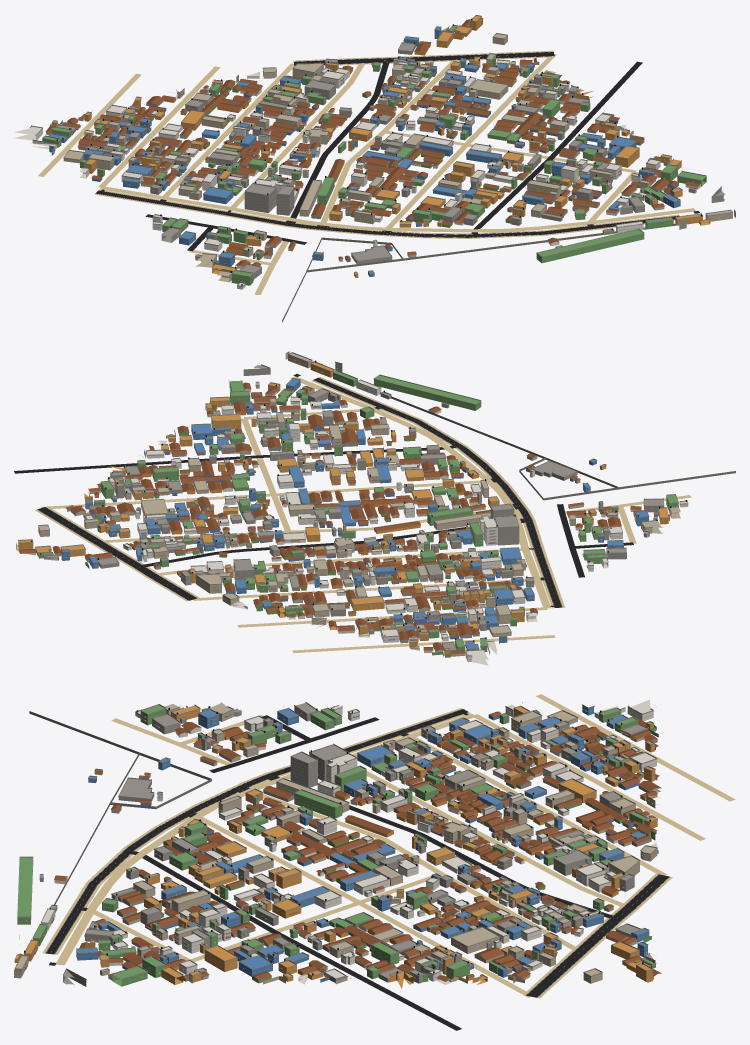
File: zone_t6_2.glb
3 renders of one model, top to bottom at view 1: azimuth 30°, elevation 25°; view 2: azimuth 150°, elevation 25°; view 3: azimuth 270°, elevation 25°, orthographic. The views are drawn at different scales.
Visible parts, largest first — view 1: parapet_t6_2, toit_tole_t6_2, bld_peinture_vert_t6_2-col, bld_peinture_ecaillee_t6_2-col, bld_beton_t6_2-col, bld_peinture_blanc_t6_2-col, bld_peinture_ocre_t6_2-col, bld_peinture_bleu_t6_2-col, route_residential_terre_t6_2, route_secondary_bitume_t6_2, route_residential_bitume_t6_2, bandeau_t6_2 (+4 smaller); view 2: parapet_t6_2, toit_tole_t6_2, bld_peinture_vert_t6_2-col, bld_peinture_ecaillee_t6_2-col, bld_beton_t6_2-col, bld_peinture_blanc_t6_2-col, bld_peinture_ocre_t6_2-col, bld_peinture_bleu_t6_2-col, route_residential_terre_t6_2, route_secondary_bitume_t6_2, bandeau_t6_2, accotement_t6_2 (+5 smaller); view 3: parapet_t6_2, toit_tole_t6_2, bld_peinture_vert_t6_2-col, bld_peinture_blanc_t6_2-col, bld_peinture_ecaillee_t6_2-col, bld_peinture_ocre_t6_2-col, bld_beton_t6_2-col, bld_peinture_bleu_t6_2-col, route_residential_terre_t6_2, route_secondary_bitume_t6_2, bandeau_t6_2, route_residential_bitume_t6_2 (+5 smaller).
Boxes of the visible parts, x1,y1,x2,y2 form: parapet_t6_2: (27,15,735,286); toit_tole_t6_2: (45,19,709,266); bld_peinture_vert_t6_2-col: (42,25,706,285); bld_peinture_ecaillee_t6_2-col: (46,34,735,282); bld_beton_t6_2-col: (57,27,724,279); bld_peinture_blanc_t6_2-col: (14,59,700,289); bld_peinture_ocre_t6_2-col: (52,16,710,277); bld_peinture_bleu_t6_2-col: (49,27,680,276); route_residential_terre_t6_2: (38,54,638,294); route_secondary_bitume_t6_2: (95,52,699,237); route_residential_bitume_t6_2: (146,61,642,251); bandeau_t6_2: (36,20,731,282); parapet_t6_2: (16,351,688,657); toit_tole_t6_2: (19,361,645,654); bld_peinture_vert_t6_2-col: (38,371,678,657); bld_peinture_ecaillee_t6_2-col: (38,352,680,656); bld_beton_t6_2-col: (19,362,664,652); bld_peinture_blanc_t6_2-col: (84,380,688,665); bld_peinture_ocre_t6_2-col: (16,362,669,655); bld_peinture_bleu_t6_2-col: (61,379,657,650); route_residential_terre_t6_2: (41,409,691,653); route_secondary_bitume_t6_2: (37,374,562,607); bandeau_t6_2: (18,356,678,659); accotement_t6_2: (35,377,564,608); parapet_t6_2: (14,702,657,980); toit_tole_t6_2: (18,711,661,981); bld_peinture_vert_t6_2-col: (17,705,658,986); bld_peinture_blanc_t6_2-col: (41,699,658,984); bld_peinture_ecaillee_t6_2-col: (14,702,660,984); bld_peinture_ocre_t6_2-col: (14,705,657,988); bld_beton_t6_2-col: (39,703,660,986); bld_peinture_bleu_t6_2-col: (76,705,649,982); route_residential_terre_t6_2: (94,694,735,997); route_secondary_bitume_t6_2: (45,709,669,997); bandeau_t6_2: (15,708,657,983); route_residential_bitume_t6_2: (142,715,612,1030).
Size of the model in its own units: 626 by 21.9 by 567.
